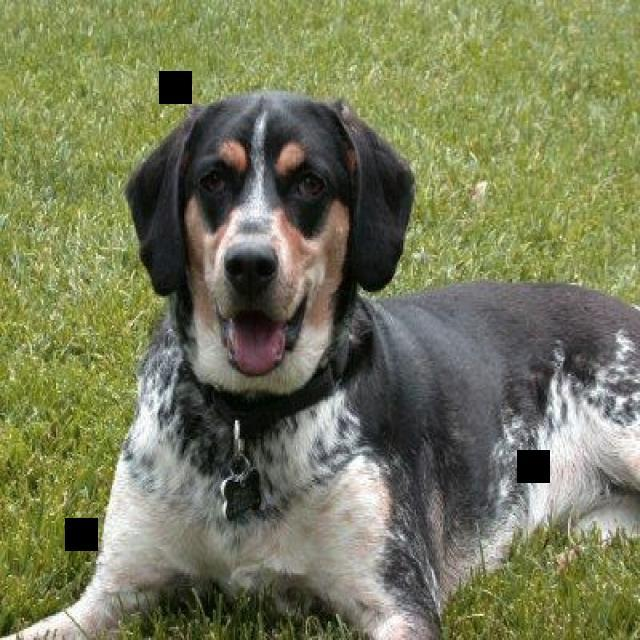adult_dog: (5, 86, 640, 640)
